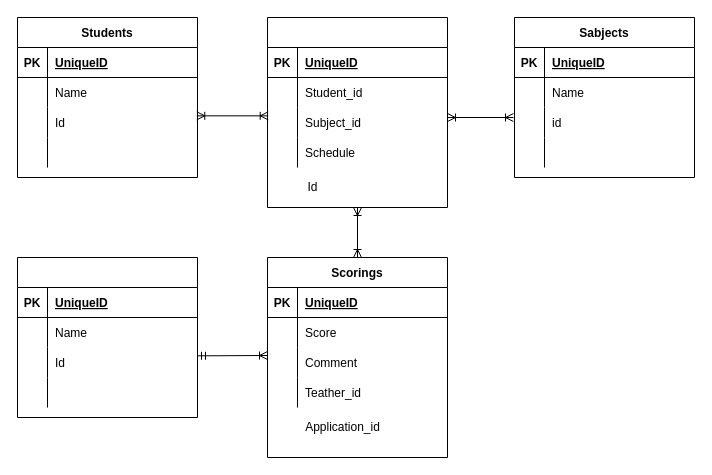
Image size: 712x475. Some labels were removed from this diagram. The box of each missing label's shape, as (x1, y1, x2, y2) in pixels:
Application: (266, 16, 448, 208)
Teachers: (16, 256, 198, 418)
